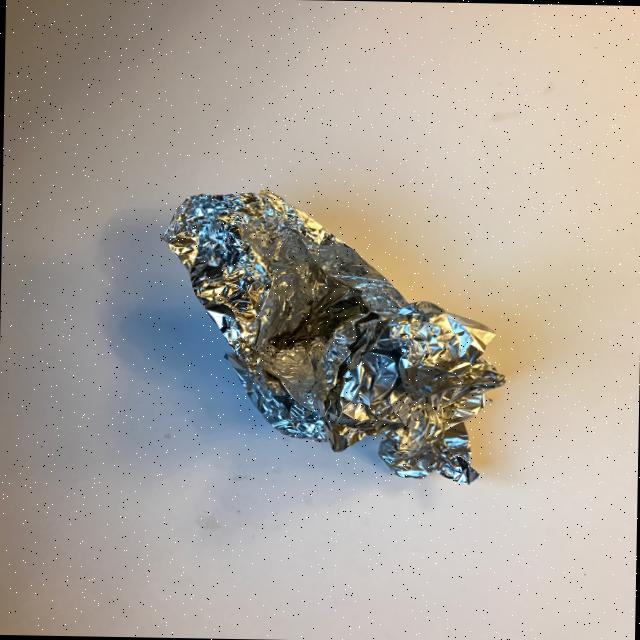metal: (155, 186, 509, 484)
